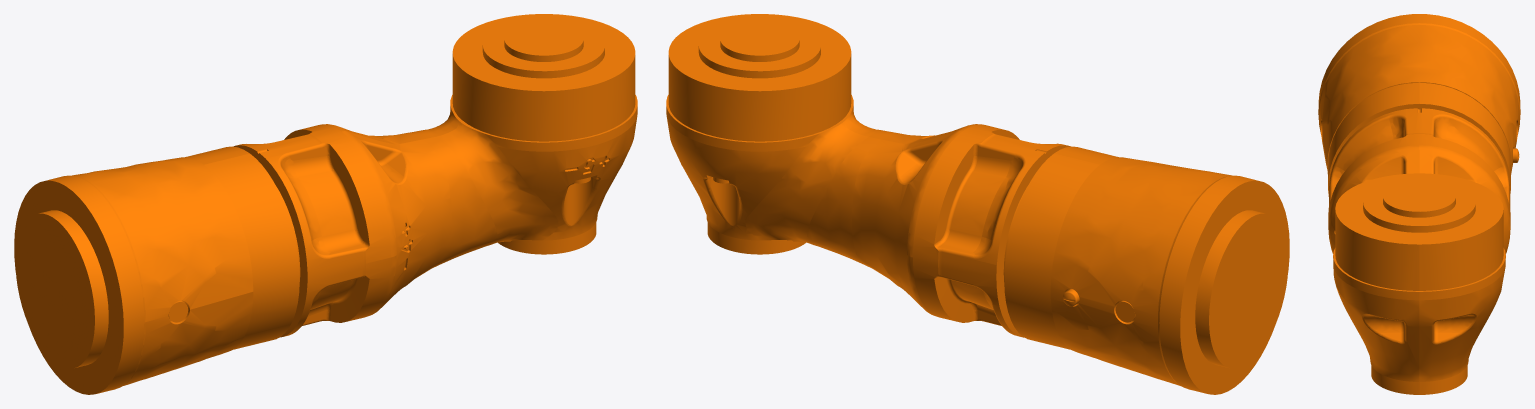
3 renders of one model, left to right at view 1: azimuth 30°, elevation 25°; view 2: azimuth 150°, elevation 25°; view 3: azimuth 270°, elevation 25°, orthographic. The views are drawn at different scales.
Visible parts, largest first — view 1: link_4; view 2: link_4; view 3: link_4.
Boxes of the visible parts, x1=… form: link_4: x1=14, y1=14, x2=637, y2=394; link_4: x1=666, y1=14, x2=1289, y2=394; link_4: x1=1318, y1=14, x2=1520, y2=394.
Bounding box in the file's own units: 0.414 × 0.1613 × 0.138.
